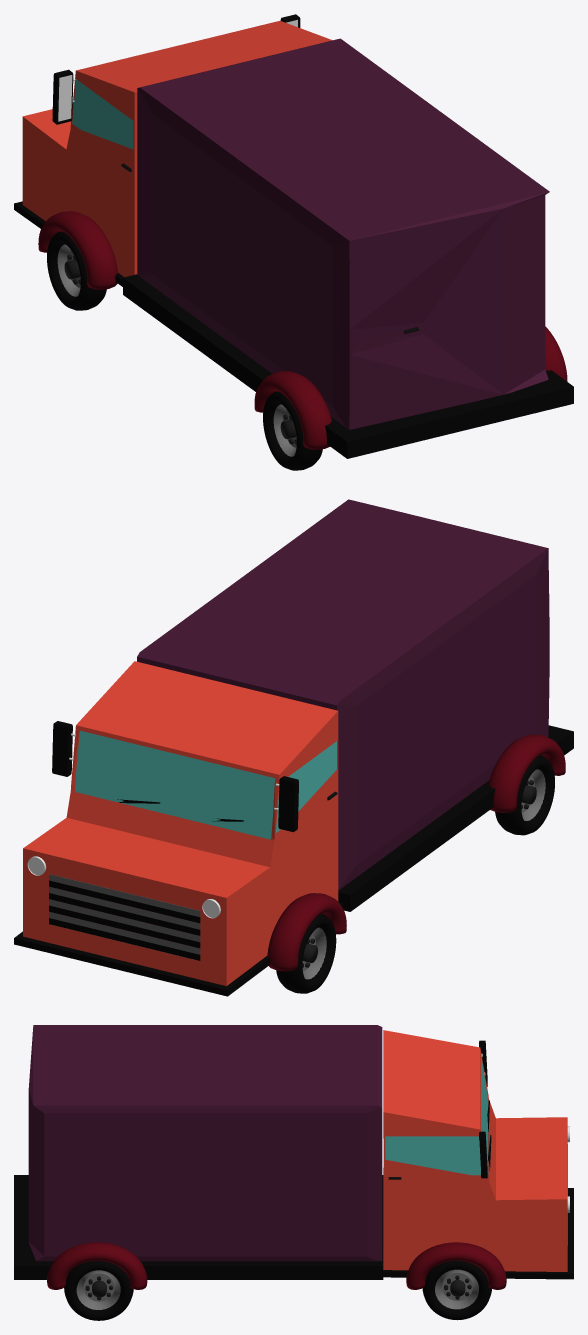
3 views of the same model, one above another, from view 1: azimuth 30°, elevation 25°; view 2: azimuth 150°, elevation 25°; view 3: azimuth 270°, elevation 25° (orthographic). The views are drawn at different scales.
Parts seen in each view (by area): view 1: Kasa_Cube, Gövde_Cube.001, Cube_Cube.006, Çamurluk.002_Torus.008, Çamurluk.003_Torus.010, CAM_Plane.002, tekerlek.002_Torus.007, tekerlek.003_Torus.009, Çamurluk.004_Torus.012, Cube.007_Cube.012, Cylinder.003_Cylinder.052, Cylinder.002_Cylinder.040; view 2: Kasa_Cube, Gövde_Cube.001, CAM.001_Cube.002, Cube_Cube.006, ızgara_Cube.003, Izgara_Boşlu_Cube.004, Çamurluk.002_Torus.008, Çamurluk.003_Torus.010, Cube.001_Cube.005, tekerlek.002_Torus.007, tekerlek.003_Torus.009, CAM_Plane.002 (+4 smaller); view 3: Kasa_Cube, Gövde_Cube.001, Cube_Cube.006, CAM.002_Plane.001, Çamurluk.005_Torus.003, Çamurluk.004_Torus.012, tekerlek.004_Torus.011, tekerlek_Torus.001, Cube.001_Cube.005, Cylinder_Cylinder.002, Cylinder.004_Cylinder.064, CAM.001_Cube.002.
Part boxes in pixels (x1=…): Kasa_Cube: x1=137, y1=38, x2=549, y2=429; Gövde_Cube.001: x1=22, y1=20, x2=332, y2=277; Cube_Cube.006: x1=123, y1=274, x2=573, y2=458; Çamurluk.002_Torus.008: x1=38, y1=211, x2=117, y2=289; Çamurluk.003_Torus.010: x1=254, y1=371, x2=331, y2=449; CAM_Plane.002: x1=72, y1=79, x2=133, y2=149; tekerlek.002_Torus.007: x1=47, y1=231, x2=106, y2=310; tekerlek.003_Torus.009: x1=263, y1=391, x2=322, y2=470; Çamurluk.004_Torus.012: x1=545, y1=326, x2=567, y2=381; Cube.007_Cube.012: x1=58, y1=75, x2=72, y2=121; Cylinder.003_Cylinder.052: x1=273, y1=404, x2=296, y2=456; Cylinder.002_Cylinder.040: x1=57, y1=244, x2=80, y2=296; Kasa_Cube: x1=137, y1=499, x2=549, y2=890; Gövde_Cube.001: x1=23, y1=661, x2=338, y2=985; CAM.001_Cube.002: x1=75, y1=730, x2=274, y2=839; Cube_Cube.006: x1=338, y1=725, x2=573, y2=911; ızgara_Cube.003: x1=49, y1=874, x2=200, y2=959; Izgara_Boşlu_Cube.004: x1=49, y1=880, x2=200, y2=960; Çamurluk.002_Torus.008: x1=267, y1=893, x2=346, y2=971; Çamurluk.003_Torus.010: x1=488, y1=734, x2=565, y2=812; Cube.001_Cube.005: x1=14, y1=902, x2=343, y2=996; tekerlek.002_Torus.007: x1=276, y1=913, x2=336, y2=993; tekerlek.003_Torus.009: x1=495, y1=755, x2=554, y2=835; CAM_Plane.002: x1=276, y1=741, x2=336, y2=832; Kasa_Cube: x1=28, y1=1025, x2=382, y2=1261; Gövde_Cube.001: x1=383, y1=1030, x2=567, y2=1271; Cube_Cube.006: x1=14, y1=1175, x2=383, y2=1279; CAM.002_Plane.001: x1=385, y1=1136, x2=480, y2=1175; Çamurluk.005_Torus.003: x1=406, y1=1242, x2=506, y2=1289; Çamurluk.004_Torus.012: x1=47, y1=1242, x2=147, y2=1289; tekerlek.004_Torus.011: x1=64, y1=1260, x2=133, y2=1320; tekerlek_Torus.001: x1=422, y1=1260, x2=491, y2=1320; Cube.001_Cube.005: x1=383, y1=1188, x2=573, y2=1279; Cylinder_Cylinder.002: x1=435, y1=1269, x2=478, y2=1309; Cylinder.004_Cylinder.064: x1=76, y1=1270, x2=120, y2=1309; CAM.001_Cube.002: x1=481, y1=1054, x2=488, y2=1174.
Size of the model in its own units: 2.56 by 5.77 by 2.35.
